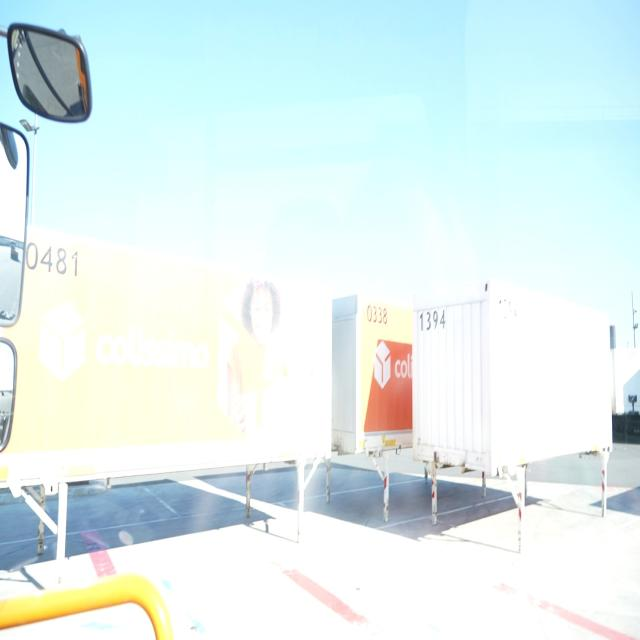Code: (26, 236, 80, 287), (413, 302, 449, 336), (362, 298, 390, 332)
